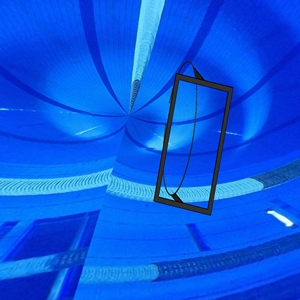circle: (151, 59, 234, 217)
